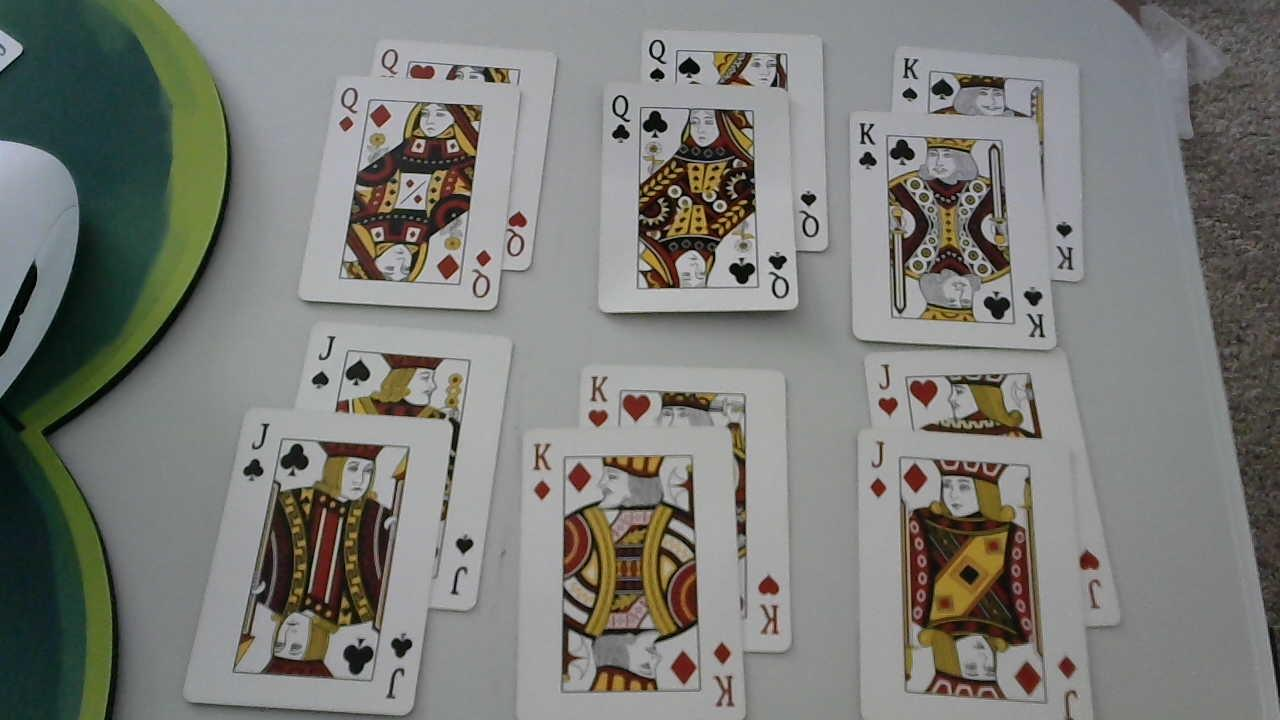JC: (379, 630, 415, 700), (239, 422, 270, 482)
JD: (1053, 651, 1084, 720), (867, 437, 892, 500)
JH: (1076, 544, 1109, 619), (873, 357, 906, 418)
JS: (447, 532, 480, 595), (308, 332, 340, 388)
KC: (1022, 286, 1048, 341), (857, 122, 880, 173)
KD: (708, 639, 734, 713), (530, 440, 554, 502)
KH: (757, 571, 784, 641), (588, 372, 610, 432)
KS: (1051, 214, 1077, 277), (900, 52, 922, 103)
QC: (766, 249, 793, 302), (608, 91, 634, 144)
QD: (467, 247, 493, 302), (337, 84, 360, 132)
QH: (504, 207, 528, 260)
QS: (797, 188, 823, 242), (647, 36, 669, 84)
